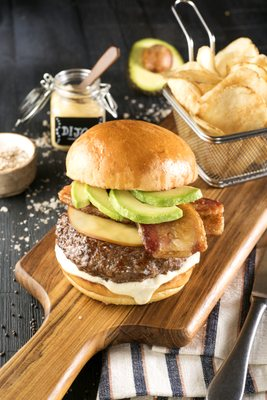sushi: (0, 132, 39, 199)
